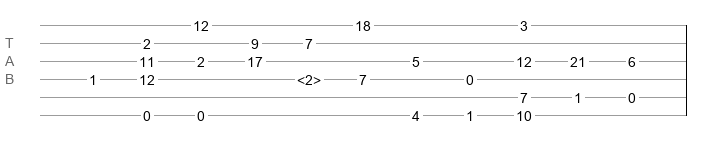0: (143, 108, 151, 118), (197, 108, 205, 118), (466, 72, 474, 82), (628, 90, 636, 100)
1: (89, 72, 97, 82), (466, 108, 474, 118), (574, 90, 582, 100)
10: (516, 108, 532, 118)
11: (139, 54, 155, 64)
12: (139, 72, 155, 82), (193, 18, 209, 28), (516, 54, 532, 64)
17: (247, 54, 263, 64)
18: (355, 18, 371, 28)
2: (143, 36, 151, 46), (197, 54, 205, 64)
21: (570, 54, 586, 64)
3: (520, 18, 528, 28)
4: (412, 108, 420, 118)
5: (412, 54, 420, 64)
6: (628, 54, 636, 64)
7: (305, 36, 313, 46), (359, 72, 367, 82), (520, 90, 528, 100)
9: (251, 36, 259, 46)
harmonic: (297, 72, 321, 82)
